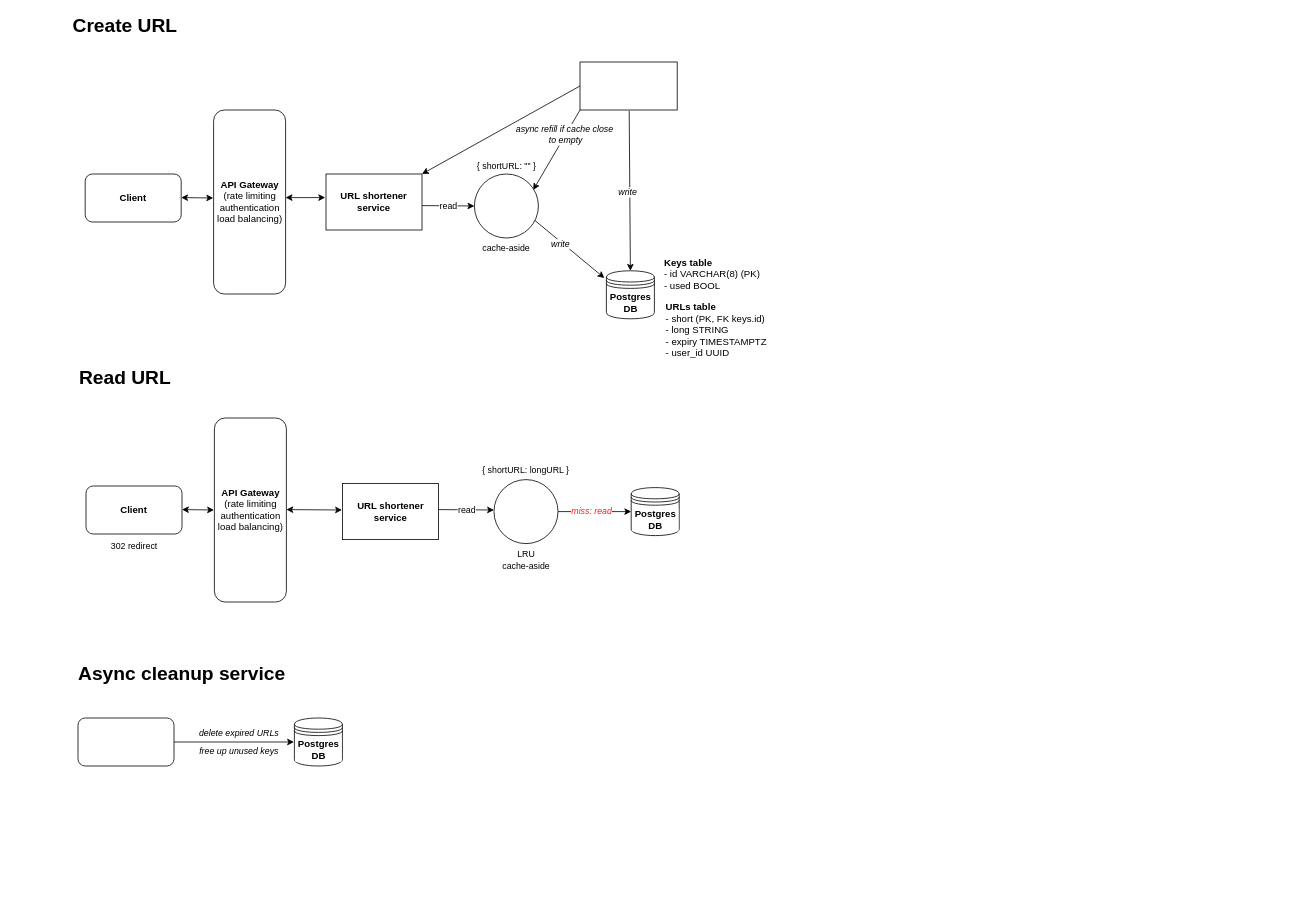
The diagram is 1299 pixels wide and 898 high, and some of its shapes have lost their labels. The shapes that lost their labels are listed below. From the top down, each one's box as (x1, y1, x2, y2) in pixels, then its label:
(579, 61, 677, 110): Key generation (cron)
(474, 173, 538, 238): Redis keys cache
(493, 479, 558, 544): Redis URLs cache
(77, 717, 174, 766): Cleanup (cron)
